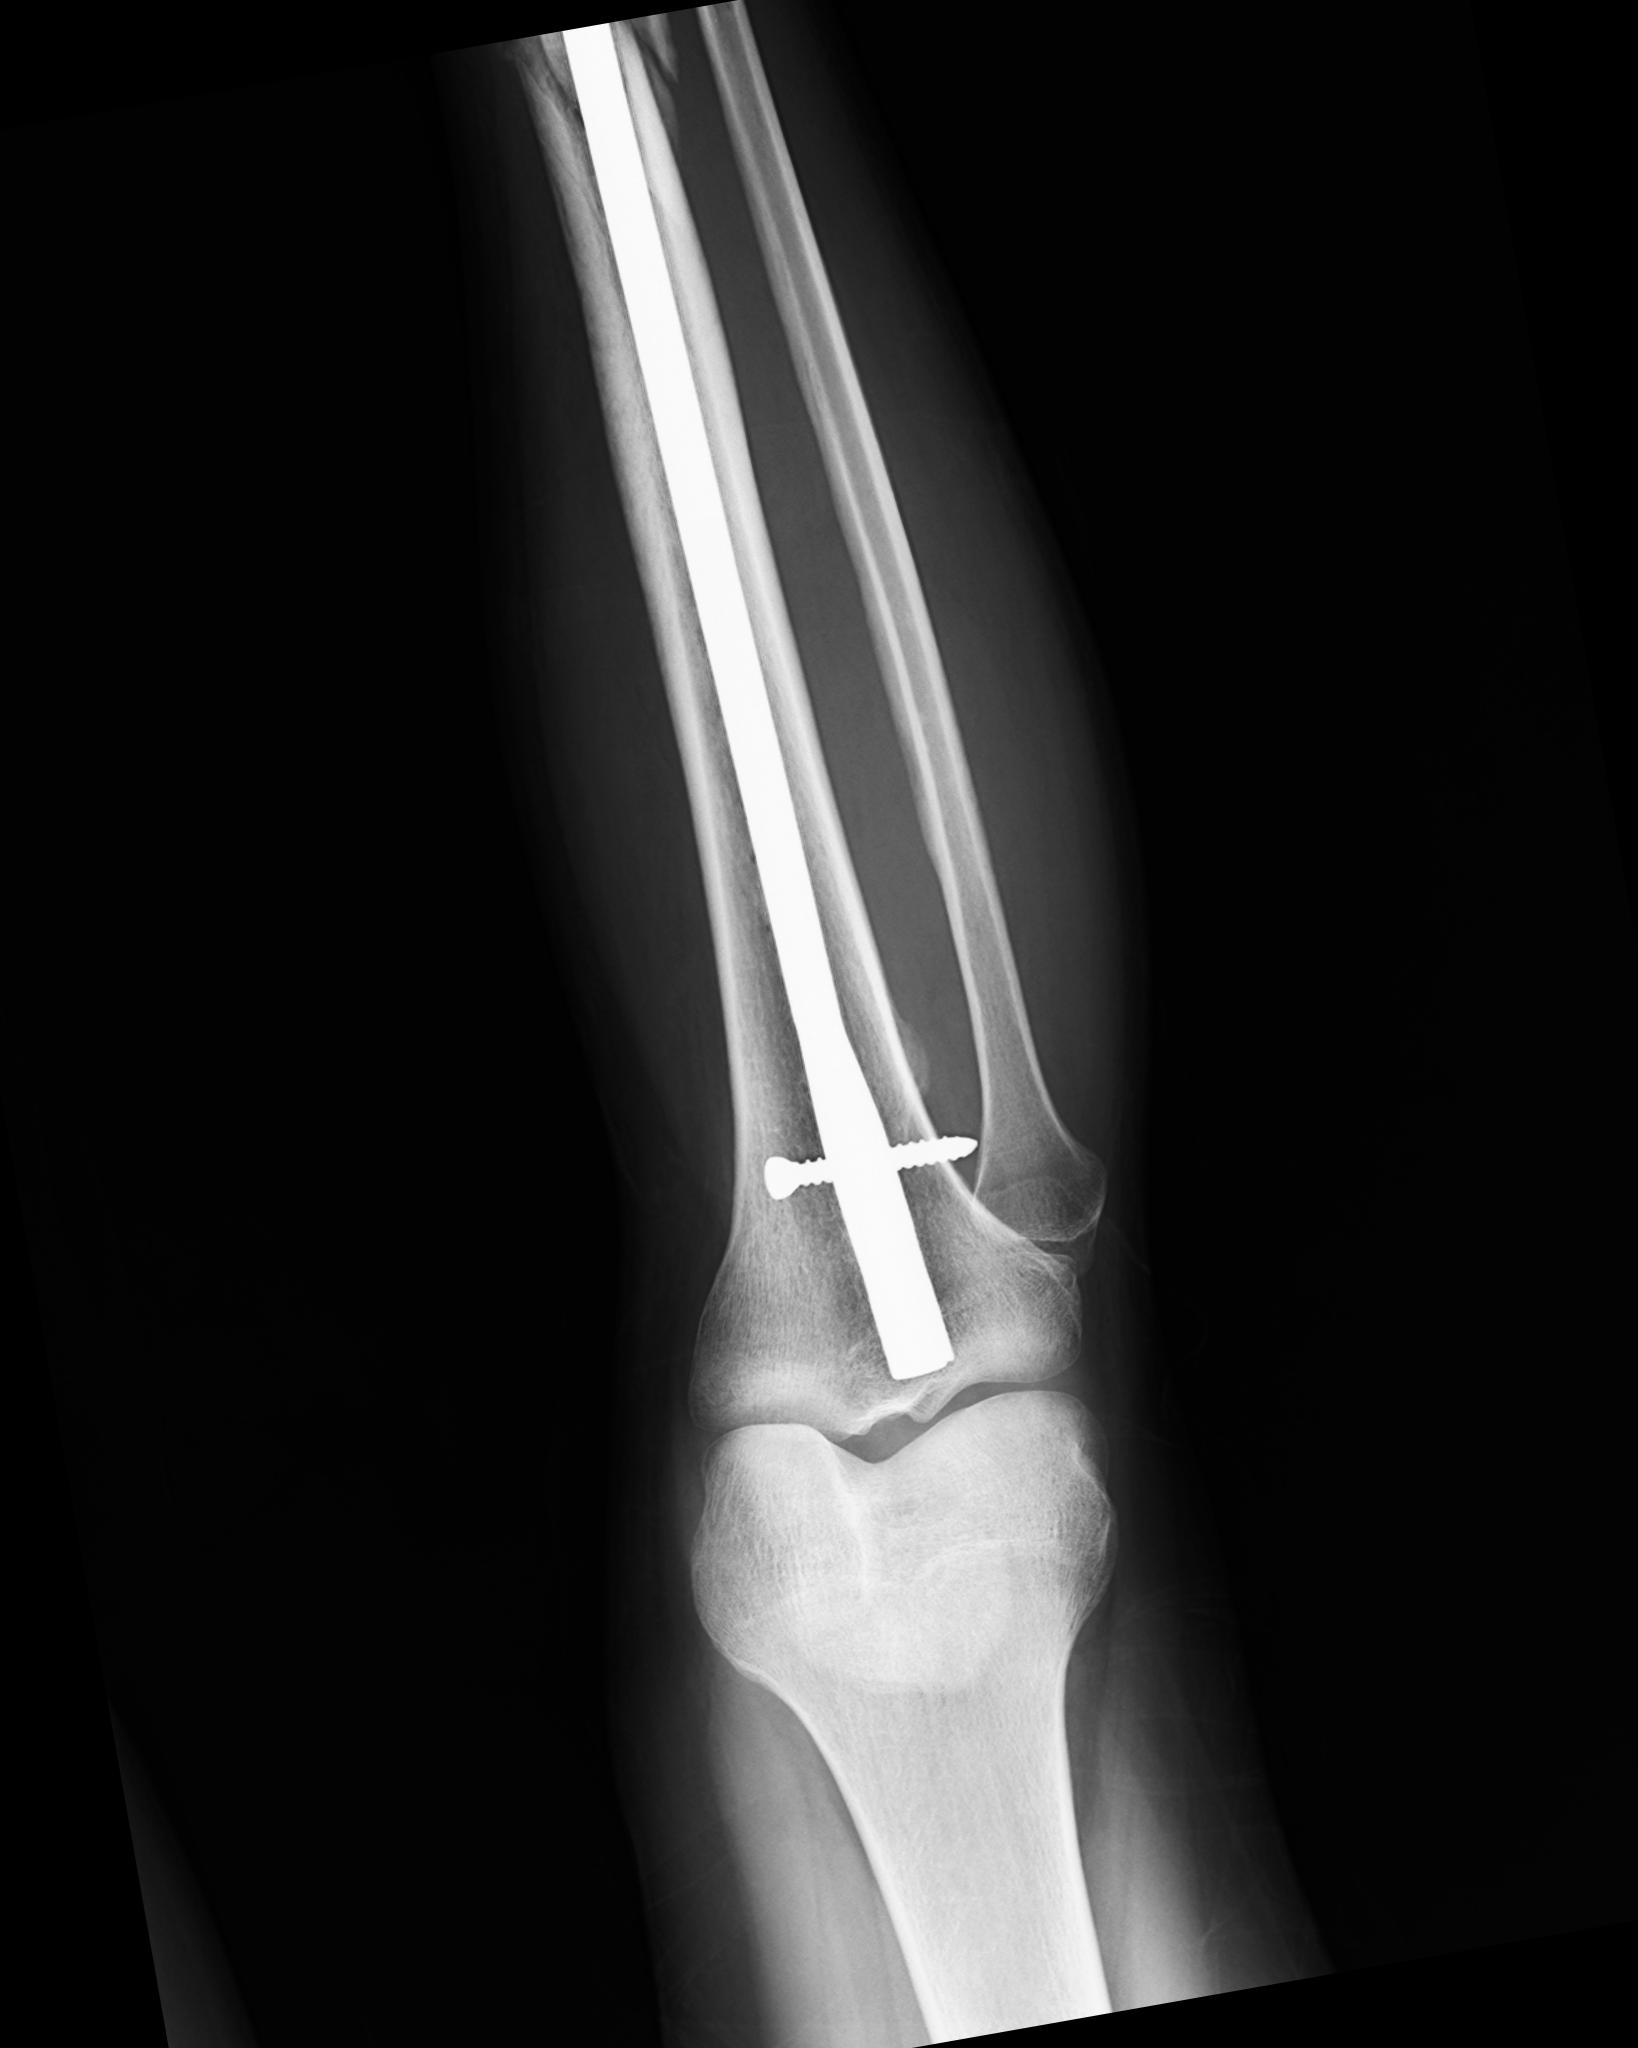fractured: (495, 7, 689, 177)
